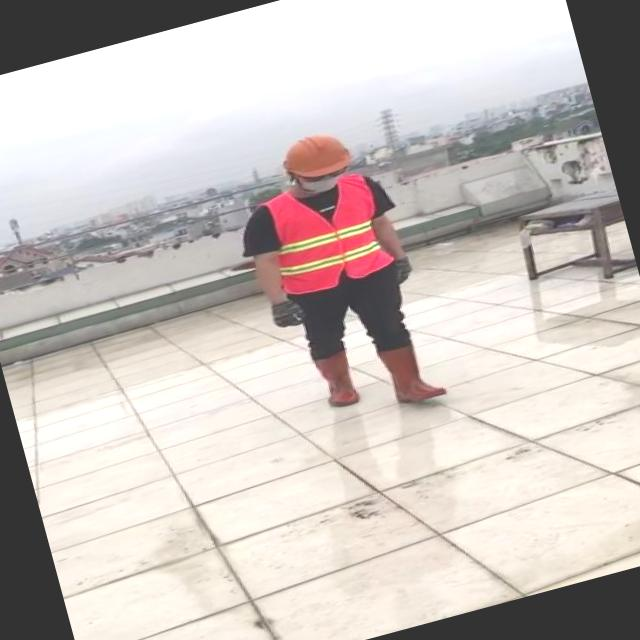boots: (378, 335, 450, 409), (307, 343, 366, 412)
helmet: (273, 122, 360, 187)
vest: (255, 170, 396, 297)
